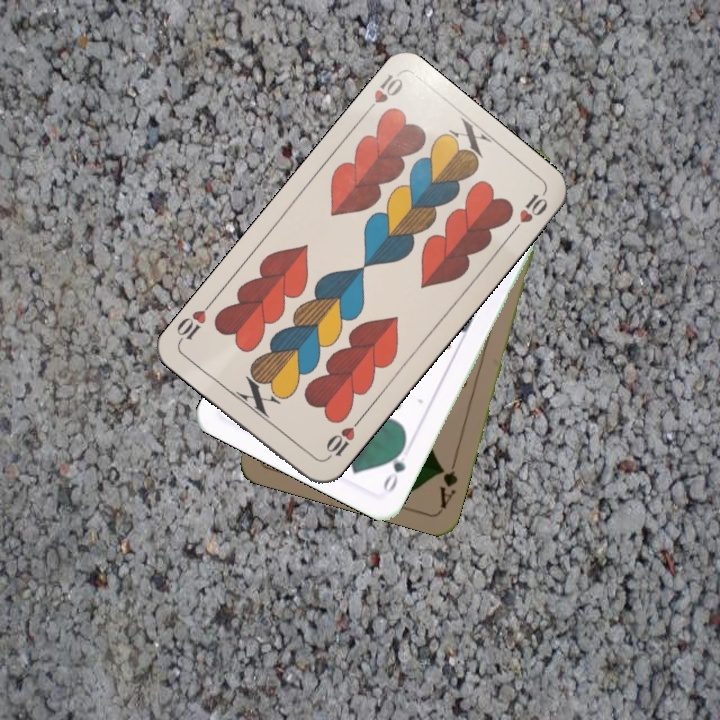GA: (435, 452, 461, 511)
GO: (379, 439, 409, 495)
H10: (359, 70, 406, 119), (320, 415, 364, 464)
